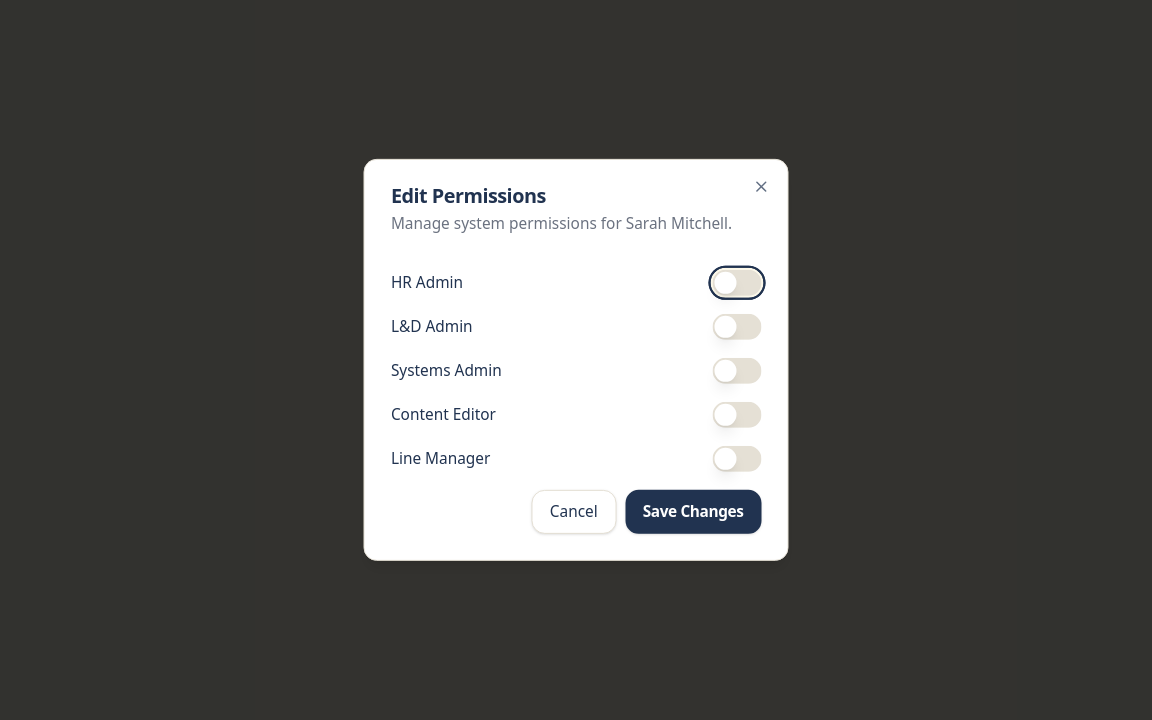
Test: PermissionsEditDialog › shows confirmation dialog when toggling admin permission
Step 1. Click the switch named "HR Admin" in the row of "HR Admin" → coordinates (737, 283), box left=713, top=270, right=761, bottom=296
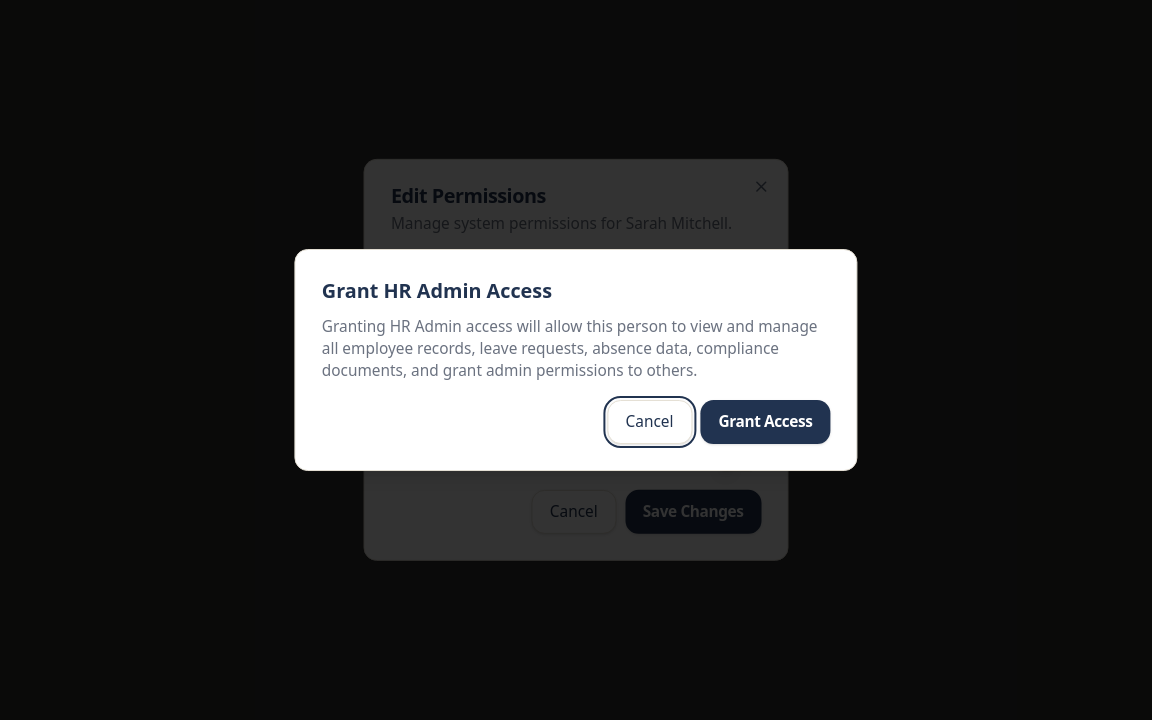
Result: the heading "Grant HR Admin Access" is shown at left=322, top=277, right=552, bottom=304
